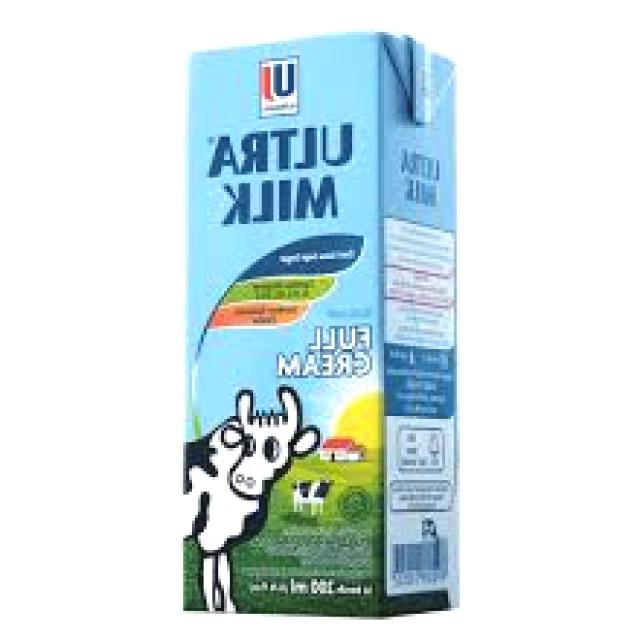susu_kotak: (169, 30, 467, 619)
